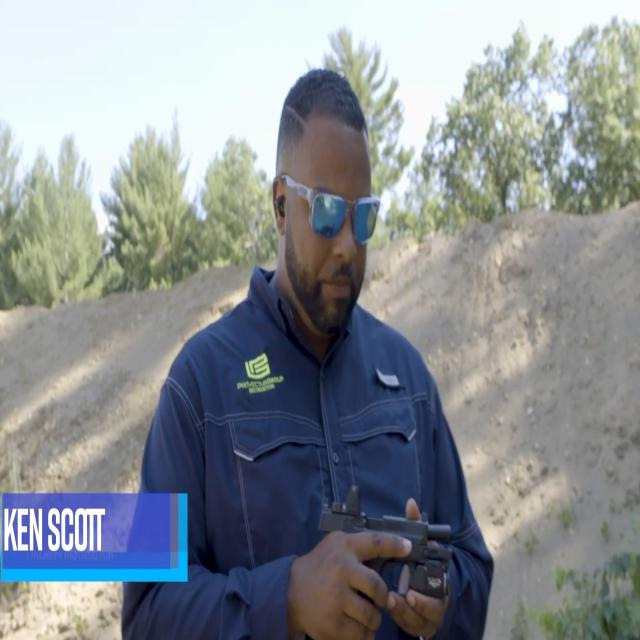Gun_Holder: (303, 466, 446, 640)
Person: (132, 69, 494, 640)
